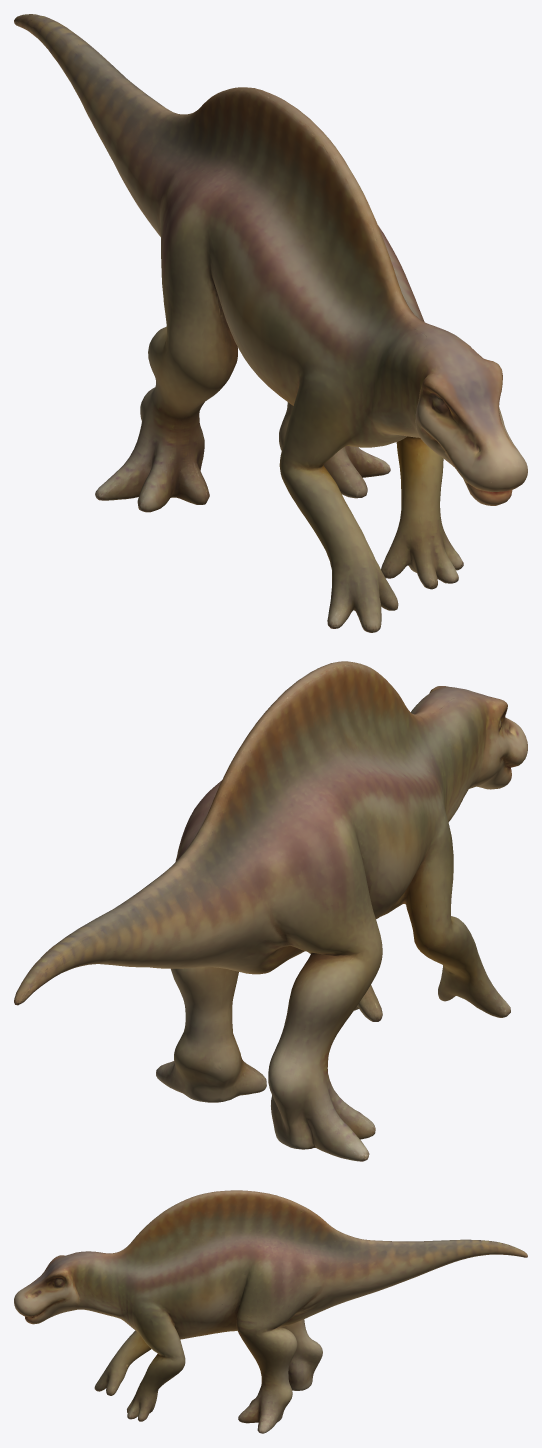
The picture shows the model from 3 angles, top to bottom: view 1: azimuth 30°, elevation 25°; view 2: azimuth 150°, elevation 25°; view 3: azimuth 270°, elevation 25°; orthographic projection. The views are drawn at different scales.
Parts seen in each view (by area): view 1: world; view 2: world; view 3: world.
Boxes of the visible parts, x1,y1,x2,y2 form: world: [14, 14, 527, 632]; world: [14, 661, 527, 1161]; world: [14, 1190, 527, 1433].
Bounding box in the file's own units: 2.2 × 3.44 × 7.5.
1 material, 1 textured.
